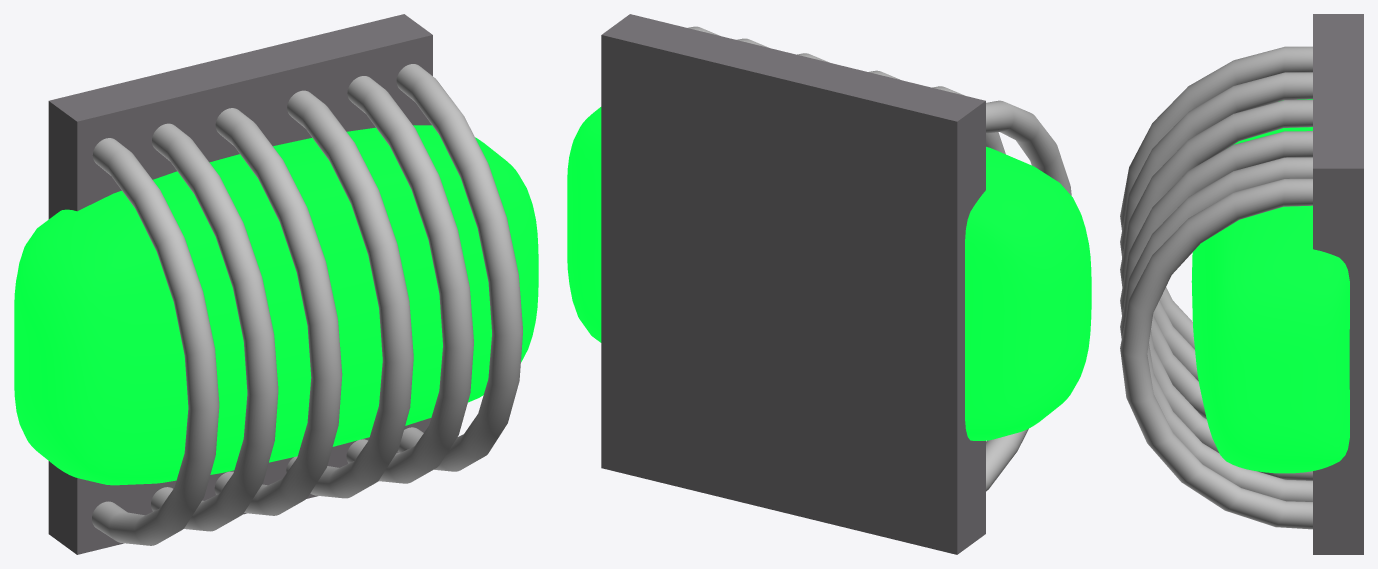
Rendered from IndustrialLight.fbx.
3 views of the same model, side by side, from view 1: azimuth 30°, elevation 25°; view 2: azimuth 150°, elevation 25°; view 3: azimuth 270°, elevation 25° (orthographic). The views are drawn at different scales.
Parts seen in each view (by area): view 1: Ontop_Door_Lamp; view 2: Ontop_Door_Lamp; view 3: Ontop_Door_Lamp.
Part boxes in pixels (bbox=[...]): Ontop_Door_Lamp: bbox=[14, 14, 538, 554]; Ontop_Door_Lamp: bbox=[567, 14, 1091, 554]; Ontop_Door_Lamp: bbox=[1120, 14, 1363, 554].
Size of the model in its own units: 10.88 by 9.25 by 5.29.
